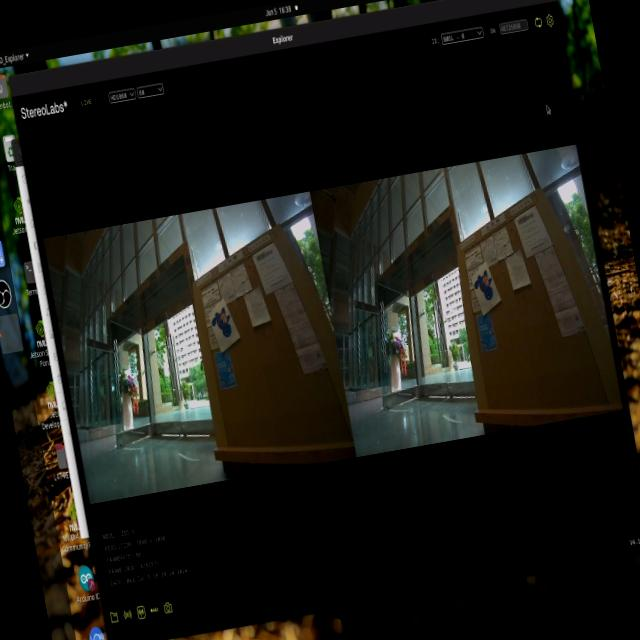blue: (463, 262, 504, 314), (201, 300, 238, 346)
